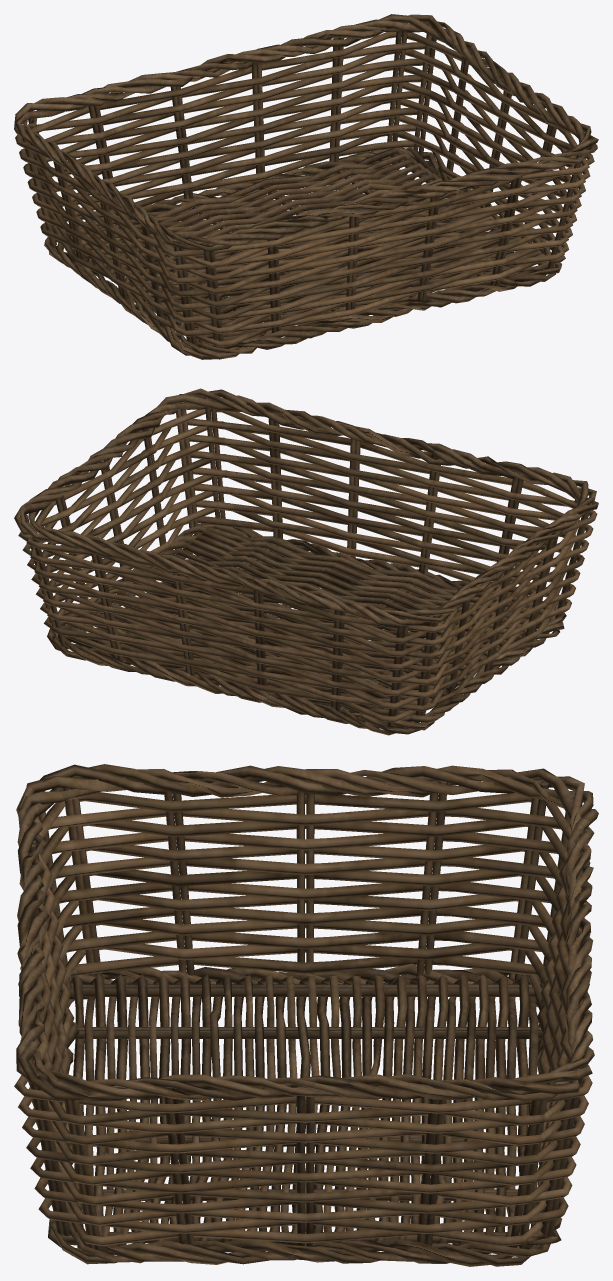
The model's file is wicker_basket_01.glb.
3 renders of one model, top to bottom at view 1: azimuth 30°, elevation 25°; view 2: azimuth 150°, elevation 25°; view 3: azimuth 270°, elevation 25°, orthographic. The views are drawn at different scales.
Visible parts, largest first — view 1: wicker_basket_01_mesh; view 2: wicker_basket_01_mesh; view 3: wicker_basket_01_mesh.
Part boxes in pixels (left/top/right/bottom): wicker_basket_01_mesh: left=14, top=14, right=598, bottom=359; wicker_basket_01_mesh: left=14, top=388, right=598, bottom=735; wicker_basket_01_mesh: left=14, top=764, right=598, bottom=1266.
Bounding box in the file's own units: 0.383 × 0.1174 × 0.295.
1 material, 1 textured.
